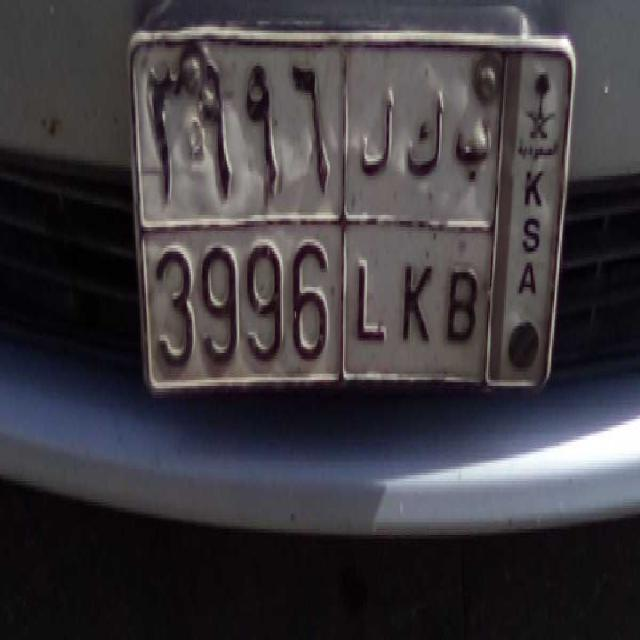license_plate: (142, 222, 490, 385)
